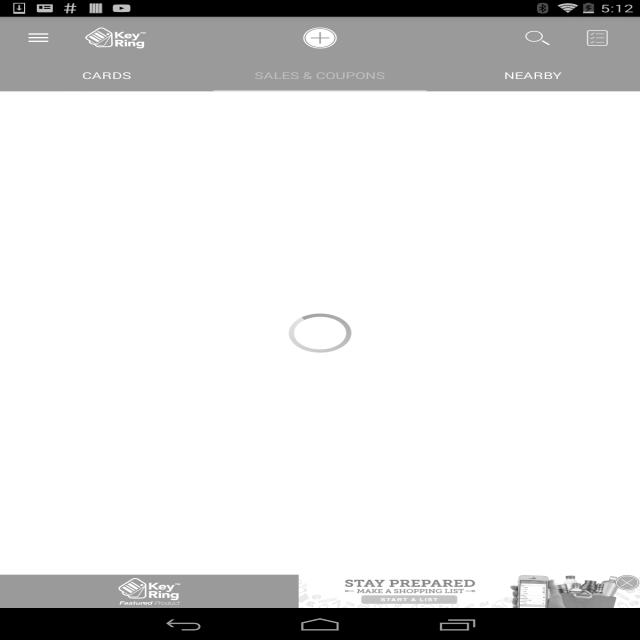ImageButton: (9, 17, 68, 59), (290, 21, 350, 55), (614, 574, 640, 590)
ImageView: (26, 138, 300, 361), (340, 138, 614, 361), (26, 442, 300, 640), (340, 442, 614, 640), (26, 107, 300, 134), (340, 107, 614, 134), (26, 411, 300, 438), (340, 411, 614, 438), (85, 27, 146, 49), (209, 372, 301, 386), (523, 372, 614, 386), (585, 30, 610, 46)
TextView: (339, 372, 497, 388), (254, 69, 385, 82), (512, 22, 563, 54), (26, 372, 98, 388), (504, 69, 562, 82), (82, 69, 131, 82)
